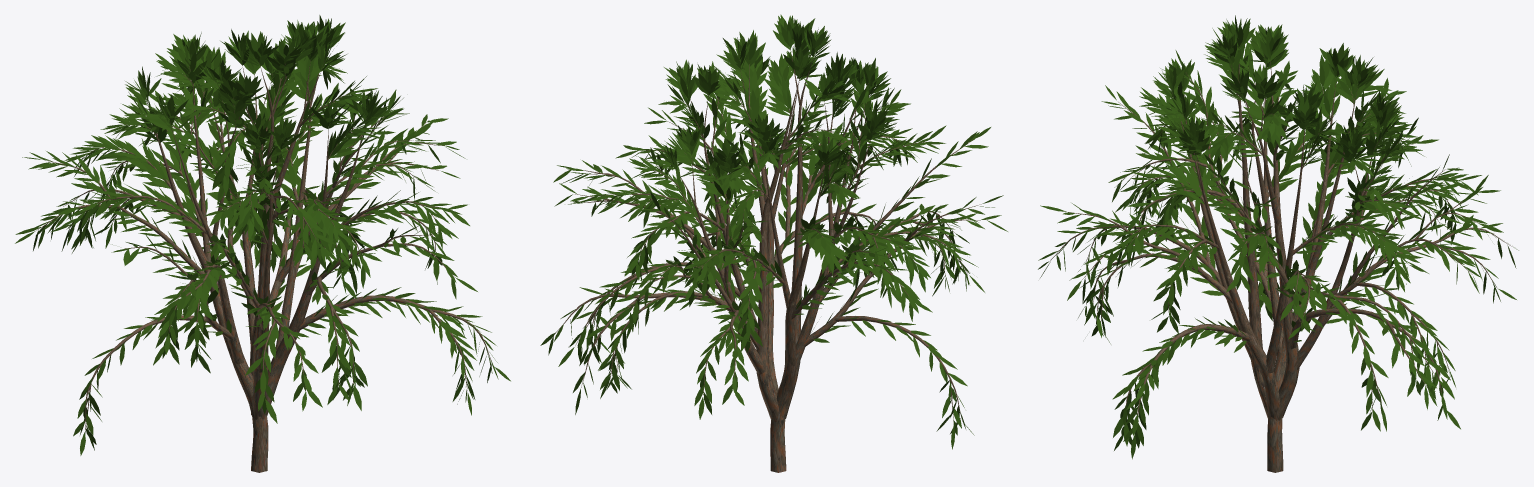
Rendered from Extra short bush.fbx.
The picture shows the model from 3 angles, left to right: view 1: azimuth 30°, elevation 25°; view 2: azimuth 150°, elevation 25°; view 3: azimuth 270°, elevation 25°; orthographic projection. The views are drawn at different scales.
Visible parts, largest first — view 1: leaves.005, tree.005; view 2: leaves.005, tree.005; view 3: leaves.005, tree.005.
Boxes of the visible parts, x1,y1,x2,y2 form: leaves.005: (15,15,510,455); tree.005: (36,60,492,472); leaves.005: (540,14,1007,449); tree.005: (554,50,985,472); leaves.005: (1038,15,1518,459); tree.005: (1050,47,1512,472).
Size of the model in its own units: 671 by 697 by 687.
Materials: 2 (1 with a texture image).
